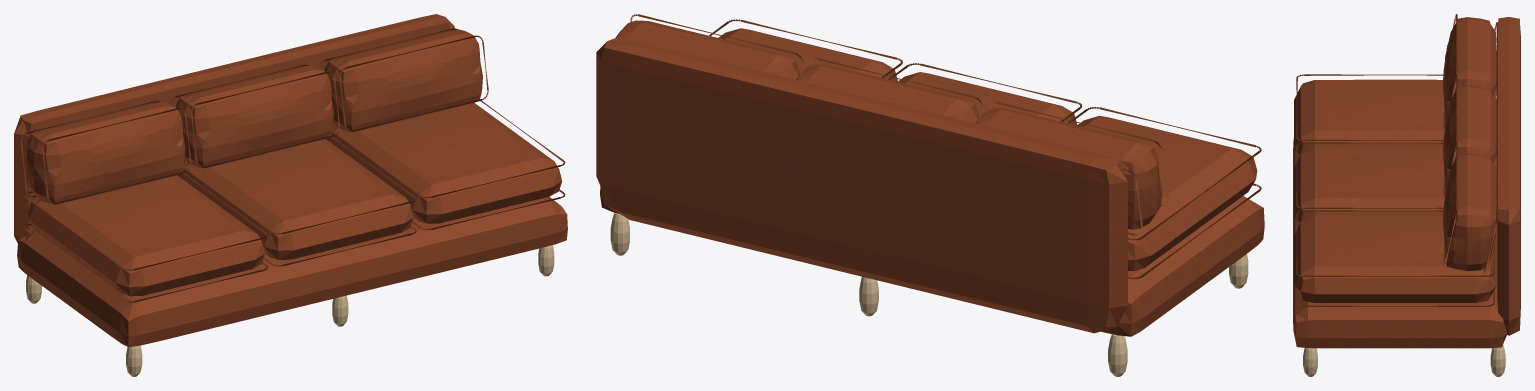
The model's file is SAB-OLS-std.glb.
3 views of the same model, side by side, from view 1: azimuth 30°, elevation 25°; view 2: azimuth 150°, elevation 25°; view 3: azimuth 270°, elevation 25° (orthographic). The views are drawn at different scales.
Parts seen in each view (by area): view 1: deck:fabric:eyJwcmVzZXQiOiJjYW52YXMiLCJ3YXJwIjoicnVzdCIsIndl, seat-1:fabric:eyJwcmVzZXQiOiJjYW52YXMiLCJ3YXJwIjoicnVzdCIsIn, seat-3:fabric:eyJwcmVzZXQiOiJjYW52YXMiLCJ3YXJwIjoicnVzdCIsIn, seat-2:fabric:eyJwcmVzZXQiOiJjYW52YXMiLCJ3YXJwIjoicnVzdCIsIn, back-1:fabric:eyJwcmVzZXQiOiJjYW52YXMiLCJ3YXJwIjoicnVzdCIsIn, back-2:fabric:eyJwcmVzZXQiOiJjYW52YXMiLCJ3YXJwIjoicnVzdCIsIn, back-3:fabric:eyJwcmVzZXQiOiJjYW52YXMiLCJ3YXJwIjoicnVzdCIsIn, back-pad:fabric:eyJwcmVzZXQiOiJjYW52YXMiLCJ3YXJwIjoicnVzdCIs, seat-1:piping:pbr, back-1:piping:pbr, back-3:piping:pbr, seat-2:piping:pbr (+3 smaller); view 2: back-pad:fabric:eyJwcmVzZXQiOiJjYW52YXMiLCJ3YXJwIjoicnVzdCIs, seat-1:fabric:eyJwcmVzZXQiOiJjYW52YXMiLCJ3YXJwIjoicnVzdCIsIn, deck:fabric:eyJwcmVzZXQiOiJjYW52YXMiLCJ3YXJwIjoicnVzdCIsIndl, back-1:fabric:eyJwcmVzZXQiOiJjYW52YXMiLCJ3YXJwIjoicnVzdCIsIn, back-3:fabric:eyJwcmVzZXQiOiJjYW52YXMiLCJ3YXJwIjoicnVzdCIsIn, back-2:fabric:eyJwcmVzZXQiOiJjYW52YXMiLCJ3YXJwIjoicnVzdCIsIn, seat-3:fabric:eyJwcmVzZXQiOiJjYW52YXMiLCJ3YXJwIjoicnVzdCIsIn, seat-2:fabric:eyJwcmVzZXQiOiJjYW52YXMiLCJ3YXJwIjoicnVzdCIsIn, seat-1:piping:pbr, leg-bl:pbr, leg-br:pbr, back-1:piping:pbr (+1 smaller); view 3: seat-3:fabric:eyJwcmVzZXQiOiJjYW52YXMiLCJ3YXJwIjoicnVzdCIsIn, seat-2:fabric:eyJwcmVzZXQiOiJjYW52YXMiLCJ3YXJwIjoicnVzdCIsIn, seat-1:fabric:eyJwcmVzZXQiOiJjYW52YXMiLCJ3YXJwIjoicnVzdCIsIn, deck:fabric:eyJwcmVzZXQiOiJjYW52YXMiLCJ3YXJwIjoicnVzdCIsIndl, back-pad:fabric:eyJwcmVzZXQiOiJjYW52YXMiLCJ3YXJwIjoicnVzdCIs, back-3:fabric:eyJwcmVzZXQiOiJjYW52YXMiLCJ3YXJwIjoicnVzdCIsIn, back-1:fabric:eyJwcmVzZXQiOiJjYW52YXMiLCJ3YXJwIjoicnVzdCIsIn, back-2:fabric:eyJwcmVzZXQiOiJjYW52YXMiLCJ3YXJwIjoicnVzdCIsIn, seat-3:piping:pbr, seat-2:piping:pbr, seat-1:piping:pbr, back-3:piping:pbr (+4 smaller).
Boxes of the visible parts, box(x1,y1,x2,y2) form: deck:fabric:eyJwcmVzZXQiOiJjYW52YXMiLCJ3YXJwIjoicnVzdCIsIndl: box(17, 196, 567, 347); seat-1:fabric:eyJwcmVzZXQiOiJjYW52YXMiLCJ3YXJwIjoicnVzdCIsIn: box(28, 175, 264, 296); seat-3:fabric:eyJwcmVzZXQiOiJjYW52YXMiLCJ3YXJwIjoicnVzdCIsIn: box(326, 102, 562, 223); seat-2:fabric:eyJwcmVzZXQiOiJjYW52YXMiLCJ3YXJwIjoicnVzdCIsIn: box(177, 139, 413, 259); back-1:fabric:eyJwcmVzZXQiOiJjYW52YXMiLCJ3YXJwIjoicnVzdCIsIn: box(26, 102, 185, 204); back-2:fabric:eyJwcmVzZXQiOiJjYW52YXMiLCJ3YXJwIjoicnVzdCIsIn: box(176, 65, 334, 168); back-3:fabric:eyJwcmVzZXQiOiJjYW52YXMiLCJ3YXJwIjoicnVzdCIsIn: box(324, 29, 482, 131); back-pad:fabric:eyJwcmVzZXQiOiJjYW52YXMiLCJ3YXJwIjoicnVzdCIs: box(14, 14, 454, 243); seat-1:piping:pbr: box(24, 173, 268, 302); back-1:piping:pbr: box(20, 101, 191, 204); back-3:piping:pbr: box(318, 28, 488, 131); seat-2:piping:pbr: box(183, 137, 416, 266); back-pad:fabric:eyJwcmVzZXQiOiJjYW52YXMiLCJ3YXJwIjoicnVzdCIs: box(596, 37, 1127, 333); seat-1:fabric:eyJwcmVzZXQiOiJjYW52YXMiLCJ3YXJwIjoicnVzdCIsIn: box(1077, 115, 1257, 270); deck:fabric:eyJwcmVzZXQiOiJjYW52YXMiLCJ3YXJwIjoicnVzdCIsIndl: box(600, 186, 1264, 336); back-1:fabric:eyJwcmVzZXQiOiJjYW52YXMiLCJ3YXJwIjoicnVzdCIsIn: box(975, 108, 1162, 229); back-3:fabric:eyJwcmVzZXQiOiJjYW52YXMiLCJ3YXJwIjoicnVzdCIsIn: box(615, 20, 799, 79); back-2:fabric:eyJwcmVzZXQiOiJjYW52YXMiLCJ3YXJwIjoicnVzdCIsIn: box(796, 64, 978, 123); seat-3:fabric:eyJwcmVzZXQiOiJjYW52YXMiLCJ3YXJwIjoicnVzdCIsIn: box(718, 28, 897, 81); seat-2:fabric:eyJwcmVzZXQiOiJjYW52YXMiLCJ3YXJwIjoicnVzdCIsIn: box(898, 72, 1077, 125); seat-1:piping:pbr: box(1067, 107, 1261, 279); leg-bl:pbr: box(1108, 334, 1127, 376); leg-br:pbr: box(610, 212, 629, 255); back-1:piping:pbr: box(989, 101, 1169, 235); seat-3:fabric:eyJwcmVzZXQiOiJjYW52YXMiLCJ3YXJwIjoicnVzdCIsIn: box(1294, 215, 1496, 302); seat-2:fabric:eyJwcmVzZXQiOiJjYW52YXMiLCJ3YXJwIjoicnVzdCIsIn: box(1294, 147, 1496, 225); seat-1:fabric:eyJwcmVzZXQiOiJjYW52YXMiLCJ3YXJwIjoicnVzdCIsIn: box(1294, 79, 1496, 157); deck:fabric:eyJwcmVzZXQiOiJjYW52YXMiLCJ3YXJwIjoicnVzdCIsIndl: box(1293, 138, 1506, 348); back-pad:fabric:eyJwcmVzZXQiOiJjYW52YXMiLCJ3YXJwIjoicnVzdCIs: box(1497, 17, 1520, 335); back-3:fabric:eyJwcmVzZXQiOiJjYW52YXMiLCJ3YXJwIjoicnVzdCIsIn: box(1443, 153, 1496, 270); back-1:fabric:eyJwcmVzZXQiOiJjYW52YXMiLCJ3YXJwIjoicnVzdCIsIn: box(1443, 17, 1496, 122); back-2:fabric:eyJwcmVzZXQiOiJjYW52YXMiLCJ3YXJwIjoicnVzdCIsIn: box(1443, 85, 1496, 190); seat-3:piping:pbr: box(1296, 210, 1494, 306); seat-2:piping:pbr: box(1296, 142, 1443, 230); seat-1:piping:pbr: box(1296, 74, 1443, 162); back-3:piping:pbr: box(1443, 150, 1497, 274).
Size of the model in its own units: 1.8 by 0.7 by 0.85.
20 materials, 8 textured.
